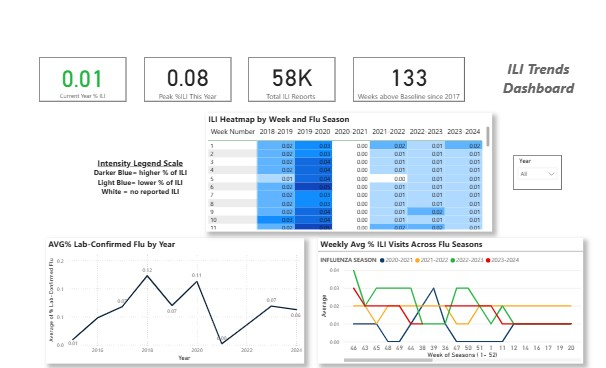

The dashboard page shown, as its layout file describes it:
{"tool":"powerbi","page":{"name":"Page 1","canvas":[1280,720],"ordinal":0},"visuals":[{"type":"card","fields":{"Values":["Table 1 (Influenza_Surveillance_Weekly_-).Current Year % ILI"]},"box":[0,0,200,102],"z":0},{"type":"card","fields":{"Values":["Table 1 (Influenza_Surveillance_Weekly_-).Peak %ILI This Year"]},"box":[240,0,200,102],"z":1000},{"type":"card","fields":{"Values":["Table 1 (Influenza_Surveillance_Weekly_-).Weeks above Baseline"]},"box":[720,0,256,102],"z":2000},{"type":"card","fields":{"Values":["Table 1 (Influenza_Surveillance_Weekly_-).ILI Reports"]},"box":[480,0,200,102],"z":3000},{"type":"slicer","fields":{"Values":["Table 1 (Influenza_Surveillance_Weekly_-).Year"]},"box":[1088,224,112,80],"z":4000},{"type":"lineChart","title":"AVG% Lab-Confirmed Flu by Year","fields":{"Category":["Table 1 (Influenza_Surveillance_Weekly_-).Year"],"Y":["Avg(Table 1 (Influenza_Surveillance_Weekly_-).% Lab-Confirmed Flu)"]},"box":[16,416,592,288],"z":5000},{"type":"pivotTable","title":"ILI Heatmap by Week and Flu Season ","fields":{"Values":["Avg(Table 1 (Influenza_Surveillance_Weekly_-).% ILI Visits )"],"Rows":["Table 1 (Influenza_Surveillance_Weekly_-).WeekNum"],"Columns":["Table 1 (Influenza_Surveillance_Weekly_-).INFLUENZA SEASON"]},"box":[384,128,656,272],"z":7000},{"type":"lineChart","title":"Weekly Avg % ILI Visits Across Flu Seasons","fields":{"Category":["Table 1 (Influenza_Surveillance_Weekly_-).WeekNum"],"Y":["Sum(Table 1 (Influenza_Surveillance_Weekly_-).% ILI Visits )"],"Series":["Table 1 (Influenza_Surveillance_Weekly_-).INFLUENZA SEASON"]},"box":[640,416,608,288],"z":8000},{"type":"textbox","box":[96,224,272,128],"z":9000},{"type":"textbox","box":[1008,0,272,96],"z":9001}]}

Visuals, with their boxes on the page's 1280x720 design canvas (x1, y1, x2, y2). These are canvas units, not pixel positions in the 606x368 screenshot, which may show the page scaled, cropped or inside an application window:
card - Table 1 (Influenza_Surveillance_Weekly_-).Current Year % ILI: select_region(0, 0, 200, 102)
card - Table 1 (Influenza_Surveillance_Weekly_-).Peak %ILI This Year: select_region(240, 0, 440, 102)
card - Table 1 (Influenza_Surveillance_Weekly_-).Weeks above Baseline: select_region(720, 0, 976, 102)
card - Table 1 (Influenza_Surveillance_Weekly_-).ILI Reports: select_region(480, 0, 680, 102)
slicer - Table 1 (Influenza_Surveillance_Weekly_-).Year: select_region(1088, 224, 1200, 304)
"AVG% Lab-Confirmed Flu by Year" lineChart: select_region(16, 416, 608, 704)
"ILI Heatmap by Week and Flu Season " pivotTable: select_region(384, 128, 1040, 400)
"Weekly Avg % ILI Visits Across Flu Seasons" lineChart: select_region(640, 416, 1248, 704)
textbox: select_region(96, 224, 368, 352)
textbox: select_region(1008, 0, 1280, 96)
